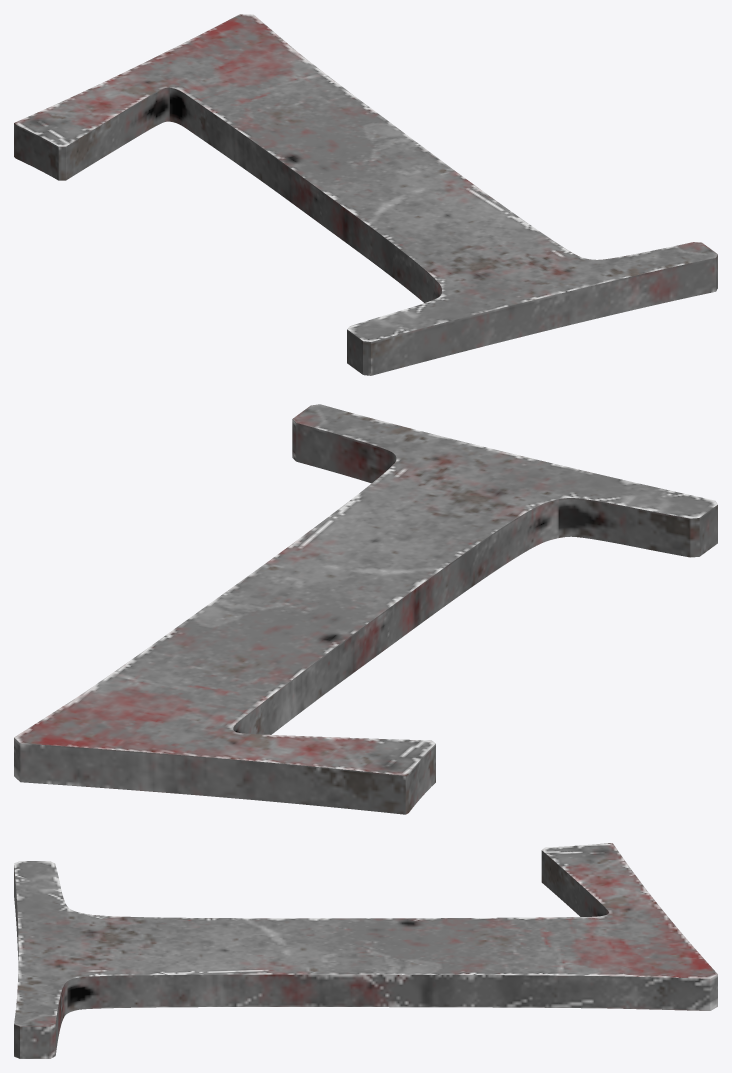
The model's file is counter_num_1.fbx.
The picture shows the model from 3 angles, top to bottom: view 1: azimuth 30°, elevation 25°; view 2: azimuth 150°, elevation 25°; view 3: azimuth 270°, elevation 25°; orthographic projection. The views are drawn at different scales.
Visible parts, largest first — view 1: 1; view 2: 1; view 3: 1.
Part boxes in pixels (bbox=[...]): 1: bbox=[14, 14, 717, 375]; 1: bbox=[14, 404, 717, 814]; 1: bbox=[14, 843, 717, 1058].
Bounding box in the file's own units: 12.38 × 1.02 × 20.08.
